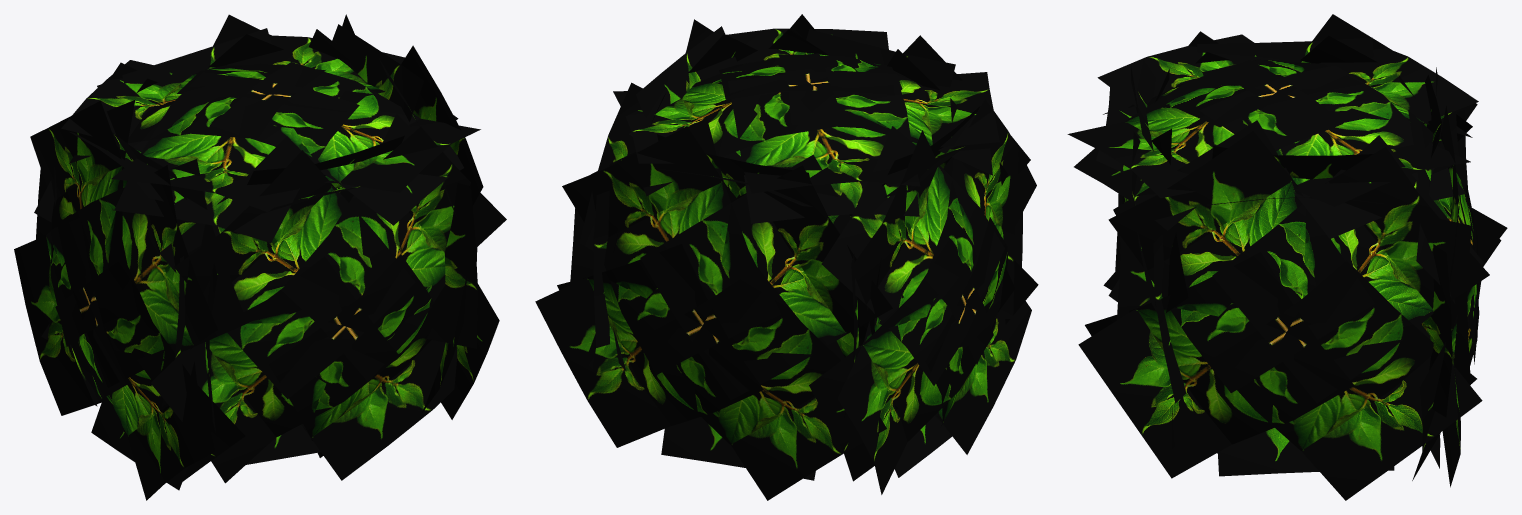
File: Arbusto.fbx
3 views of the same model, side by side, from view 1: azimuth 30°, elevation 25°; view 2: azimuth 150°, elevation 25°; view 3: azimuth 270°, elevation 25° (orthographic). The views are drawn at different scales.
Parts seen in each view (by area): view 1: Arbusto; view 2: Arbusto; view 3: Arbusto.
Part boxes in pixels (left/top/right/bottom): Arbusto: left=14, top=14, right=506, bottom=500; Arbusto: left=535, top=14, right=1038, bottom=500; Arbusto: left=1067, top=14, right=1507, bottom=500.
Size of the model in its own units: 1.69 by 1.69 by 1.73.
